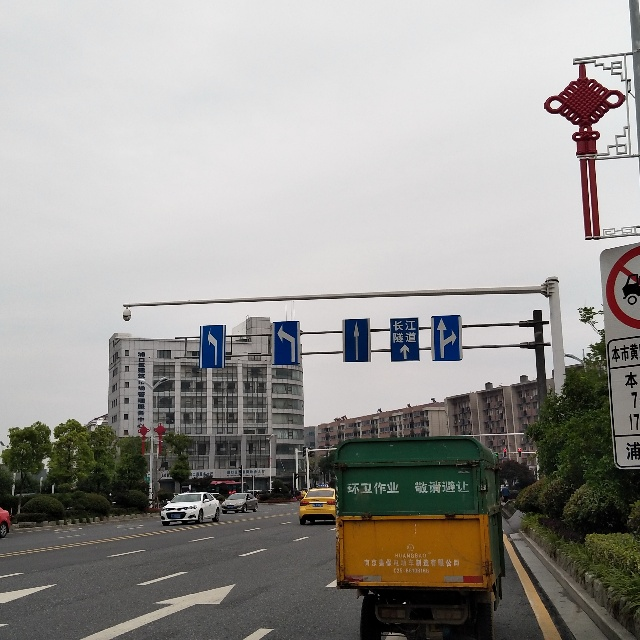left: (199, 325, 226, 370), (272, 323, 299, 366)
straight: (348, 319, 364, 364), (395, 342, 417, 361)
